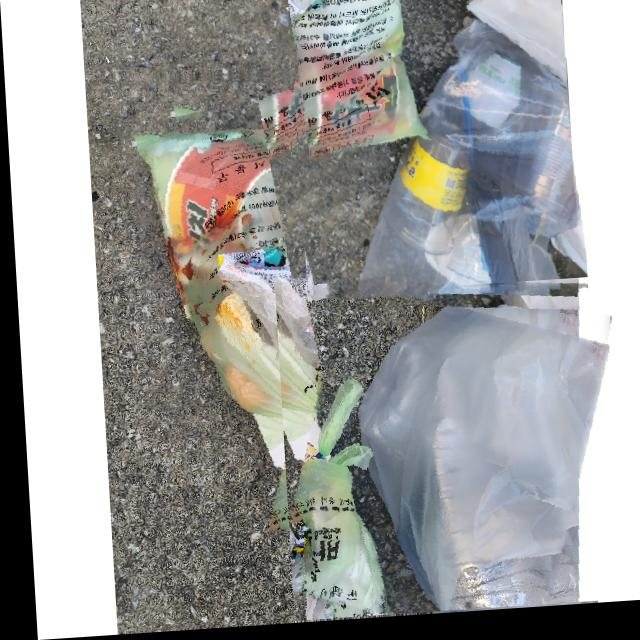general_trashbag: (122, 75, 449, 537)
other_trashbag: (283, 283, 606, 620), (289, 0, 584, 299)
